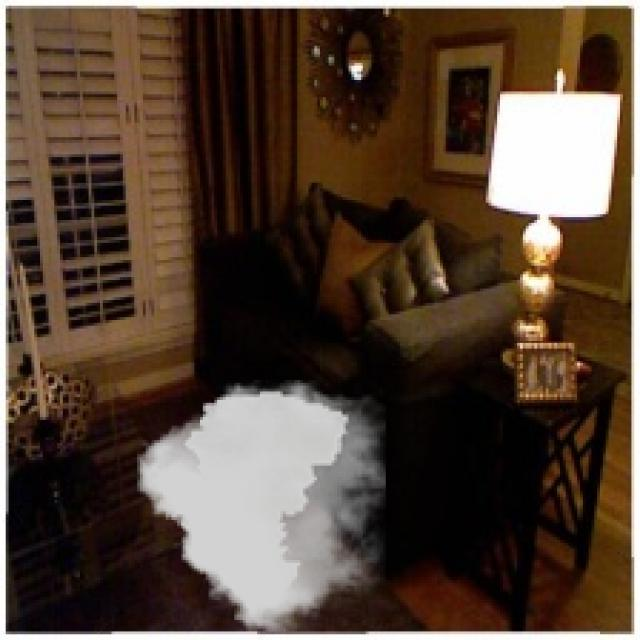smoke: (137, 380, 386, 631)
